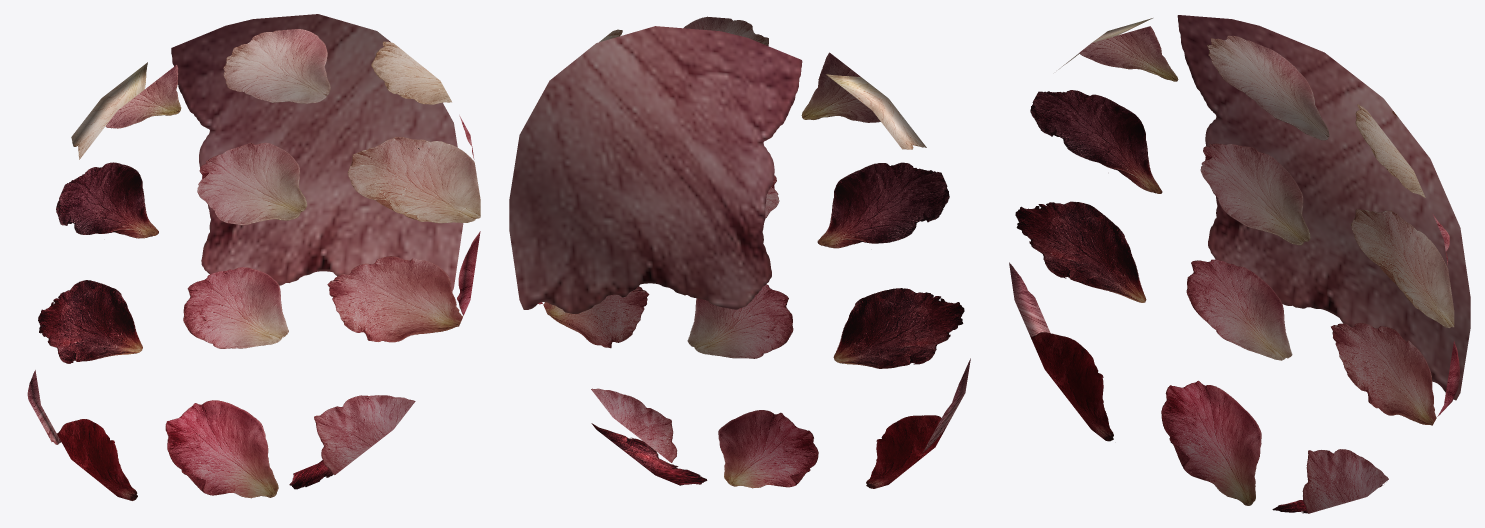
File: Piring 1.fbx
3 views of the same model, side by side, from view 1: azimuth 30°, elevation 25°; view 2: azimuth 150°, elevation 25°; view 3: azimuth 330°, elevation 25° (orthographic).
Parts seen in each view (by area): view 1: Piring 1; view 2: Piring 1; view 3: Piring 1.
Boxes of the visible parts, left/top/right/bottom form: Piring 1: left=27, top=14, right=480, bottom=500; Piring 1: left=509, top=16, right=970, bottom=488; Piring 1: left=1009, top=15, right=1470, bottom=513.
Bounding box in the file's own units: 126 × 126 × 8.03.
